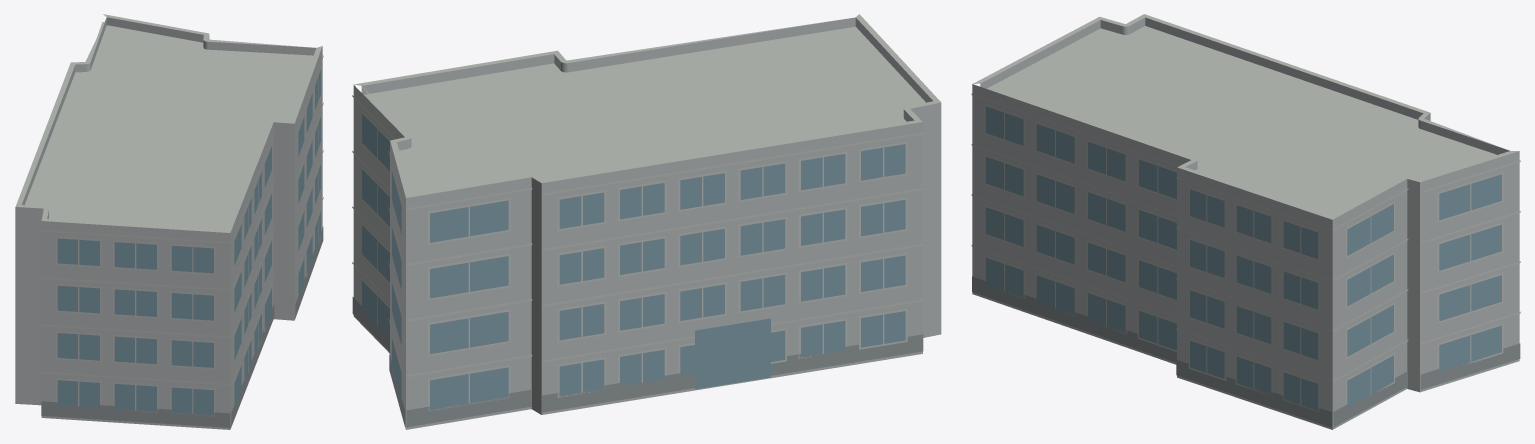
The model's file is public-9f3b1eaf-5730-48d9-854f-c6ac6ebdca5c.glb.
3 renders of one model, left to right at view 1: azimuth 30°, elevation 25°; view 2: azimuth 150°, elevation 25°; view 3: azimuth 270°, elevation 25°, orthographic. The views are drawn at different scales.
Parts seen in each view (by area): view 1: public-9f3b1eaf-5730-48d9-854f-c6ac6ebdca5c; view 2: public-9f3b1eaf-5730-48d9-854f-c6ac6ebdca5c; view 3: public-9f3b1eaf-5730-48d9-854f-c6ac6ebdca5c.
Boxes of the visible parts, <box> form: public-9f3b1eaf-5730-48d9-854f-c6ac6ebdca5c: <box>15,14,323,429</box>; public-9f3b1eaf-5730-48d9-854f-c6ac6ebdca5c: <box>352,14,941,429</box>; public-9f3b1eaf-5730-48d9-854f-c6ac6ebdca5c: <box>971,14,1520,429</box>.
Size of the model in its own units: 25.74 by 12.2 by 28.9.
